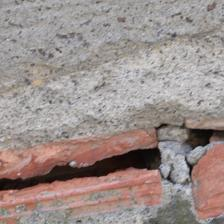Crack: (28, 68, 129, 156), (122, 14, 188, 64)
